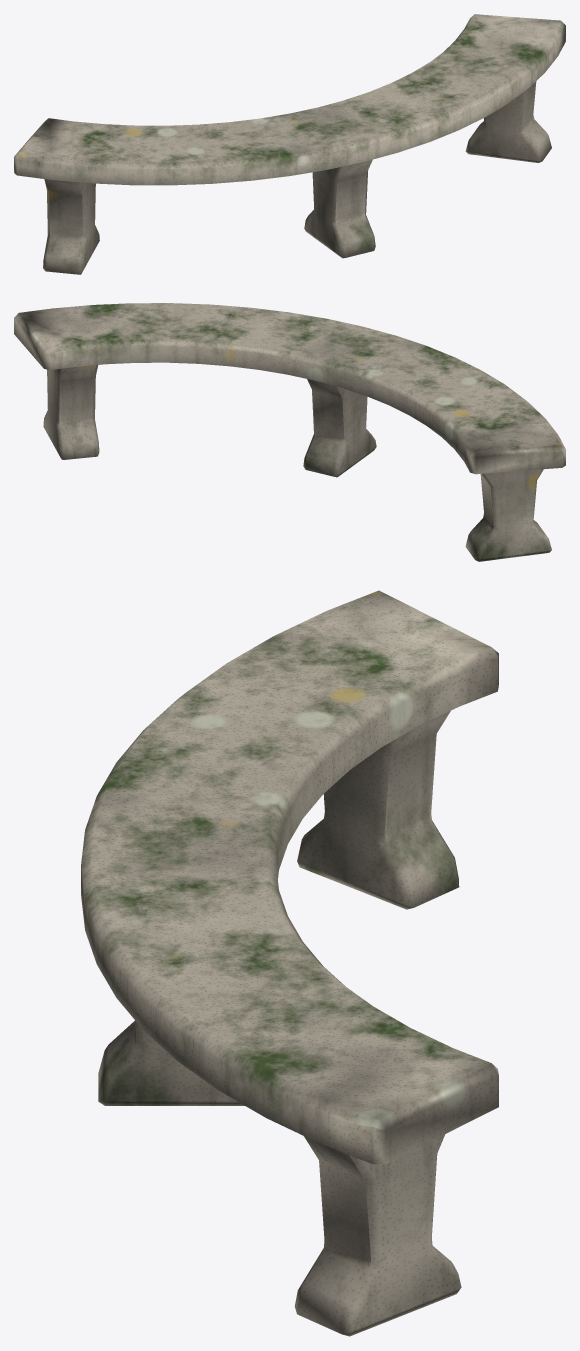
The model's file is CurvedStoneBench.fbx.
3 renders of one model, top to bottom at view 1: azimuth 30°, elevation 25°; view 2: azimuth 150°, elevation 25°; view 3: azimuth 270°, elevation 25°, orthographic. The views are drawn at different scales.
Visible parts, largest first — view 1: CurvedStoneBench; view 2: CurvedStoneBench; view 3: CurvedStoneBench.
Boxes of the visible parts, box(x1,y1,x2,y2) form: CurvedStoneBench: box(14, 14, 565, 274); CurvedStoneBench: box(14, 303, 565, 561); CurvedStoneBench: box(81, 590, 498, 1336).
Size of the model in its own units: 781 by 160 by 257.
